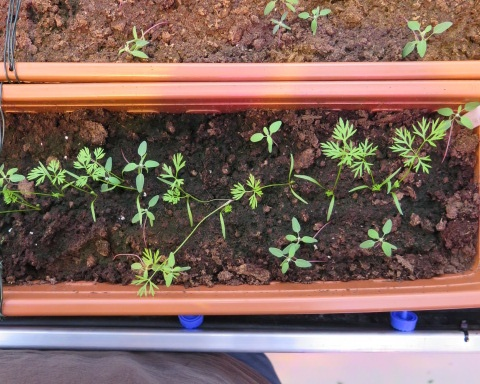crop: (135, 203, 231, 295), (385, 116, 446, 214), (303, 118, 353, 219), (230, 154, 309, 209), (162, 153, 226, 218), (29, 161, 99, 212), (342, 140, 397, 201)
weed: (399, 12, 455, 58), (122, 140, 160, 193), (356, 216, 398, 260), (283, 216, 337, 249), (436, 101, 480, 140), (273, 245, 328, 276), (244, 119, 283, 157), (132, 195, 162, 244), (120, 24, 154, 60), (269, 11, 291, 43), (304, 6, 332, 27), (1, 165, 25, 186)
